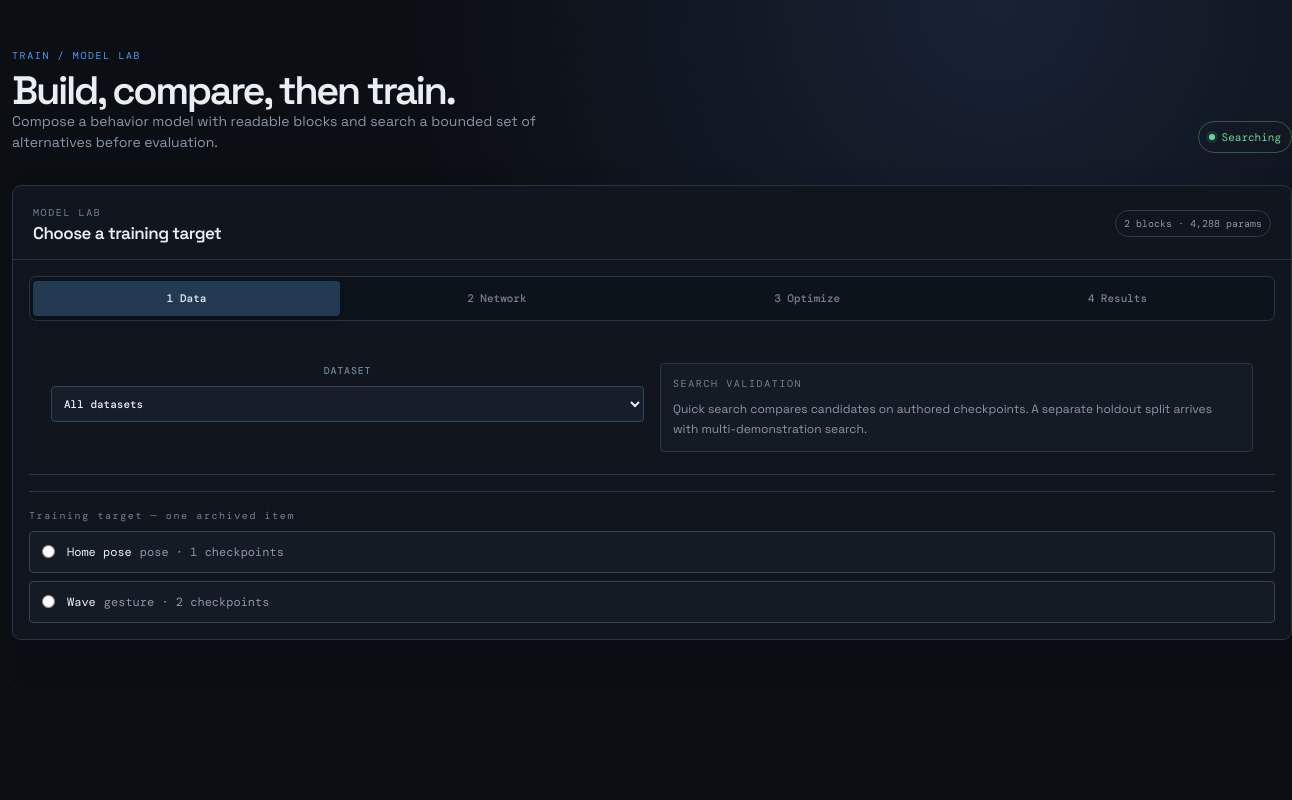
it: TrainingPage single-target picker › does not describe an in-progress candidate as promoted
Click the tab "4 Results" at coordinates (1117, 299), box x1=964 y1=280 x2=1271 y2=317
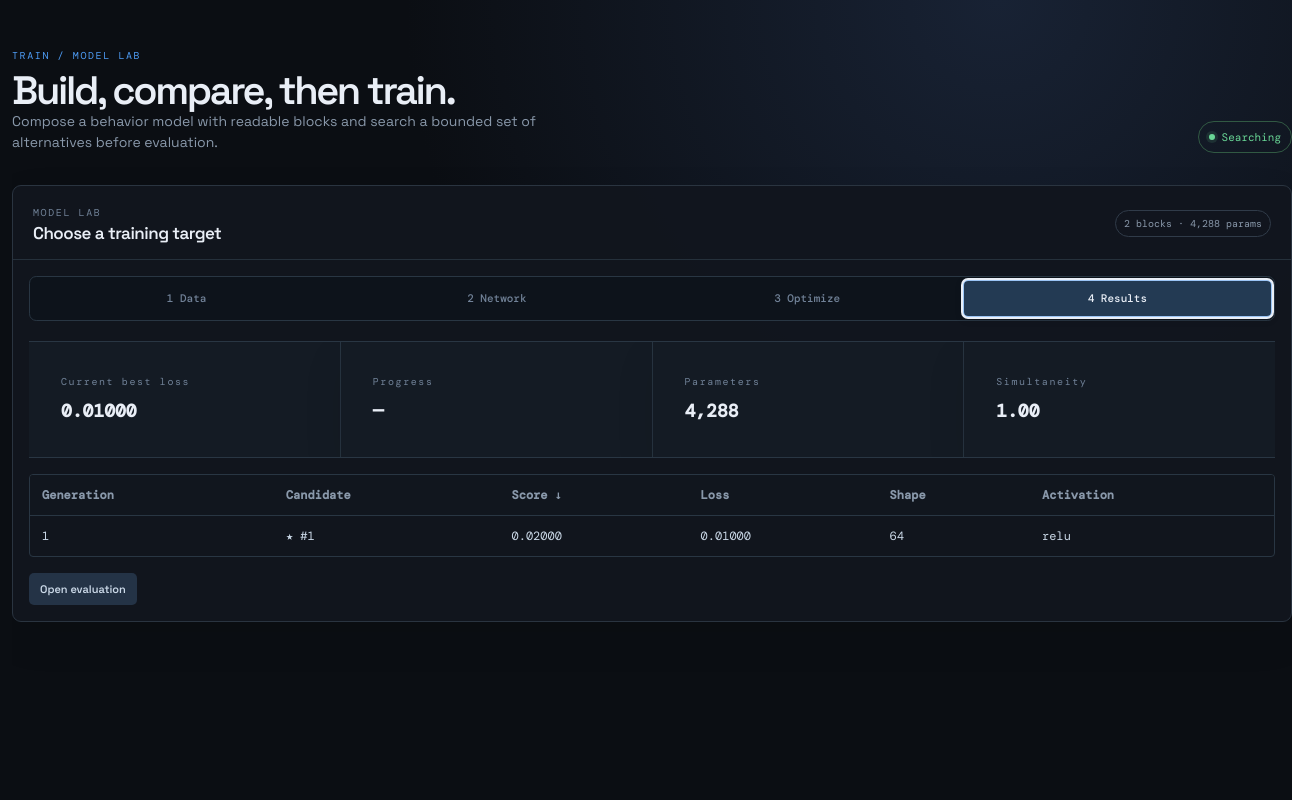
Expected: the text "Current best loss" is shown, x1=61 y1=375 x2=190 y2=388
